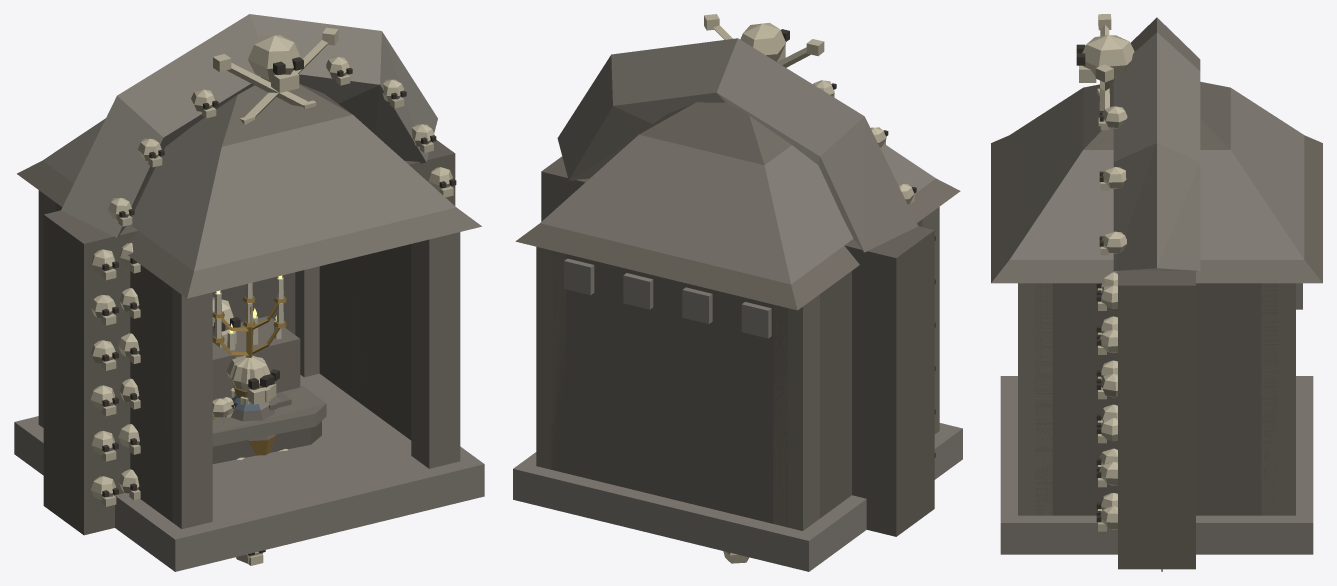
The model's file is ossuary.glb.
3 renders of one model, left to right at view 1: azimuth 30°, elevation 25°; view 2: azimuth 150°, elevation 25°; view 3: azimuth 270°, elevation 25°, orthographic. The views are drawn at different scales.
Parts seen in each view (by area): view 1: ossuary_crypt_shrine_a, ossuary_bone_arch_a, ossuary_sarcophagus_a, ossuary_candelabra_b, ossuary_bone_lantern_b, ossuary_bone_lantern_a, ossuary_candelabra_a, ossuary_funeral_urn_a; view 2: ossuary_crypt_shrine_a, ossuary_bone_arch_a; view 3: ossuary_crypt_shrine_a, ossuary_bone_arch_a.
Boxes of the visible parts, box(x1,y1,x2,y2) form: ossuary_crypt_shrine_a: box(14, 83, 484, 571); ossuary_bone_arch_a: box(43, 14, 456, 535); ossuary_sarcophagus_a: box(212, 386, 326, 463); ossuary_candelabra_b: box(212, 275, 286, 357); ossuary_bone_lantern_b: box(226, 355, 279, 405); ossuary_bone_lantern_a: box(229, 355, 274, 405); ossuary_candelabra_a: box(212, 302, 286, 356); ossuary_funeral_urn_a: box(212, 385, 268, 455); ossuary_crypt_shrine_a: box(513, 102, 962, 571); ossuary_bone_arch_a: box(541, 14, 935, 536); ossuary_crypt_shrine_a: box(991, 81, 1322, 554); ossuary_bone_arch_a: box(1076, 14, 1200, 569).
Size of the model in its own units: 2.44 by 3.37 by 1.91.
